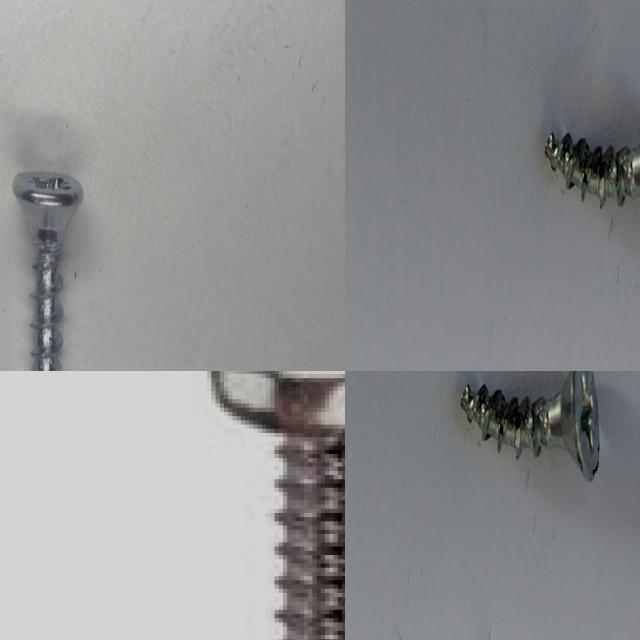Screw: (215, 371, 345, 640), (461, 371, 600, 480), (13, 171, 83, 371), (545, 132, 640, 207)
